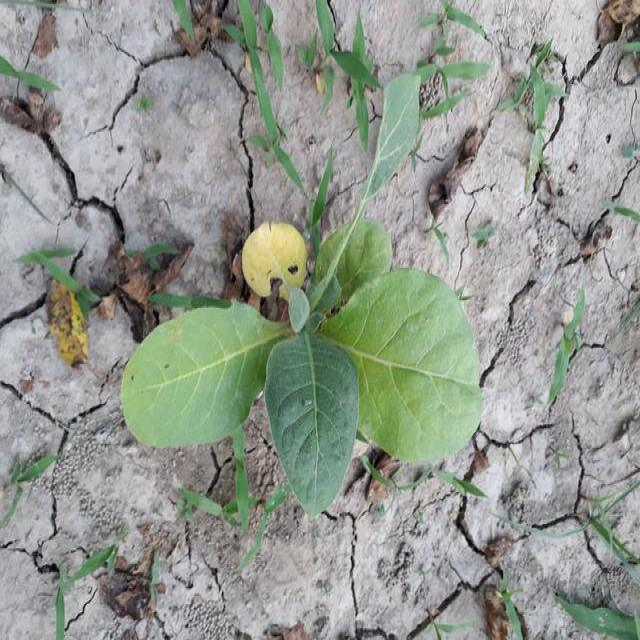crop: (118, 70, 482, 514)
